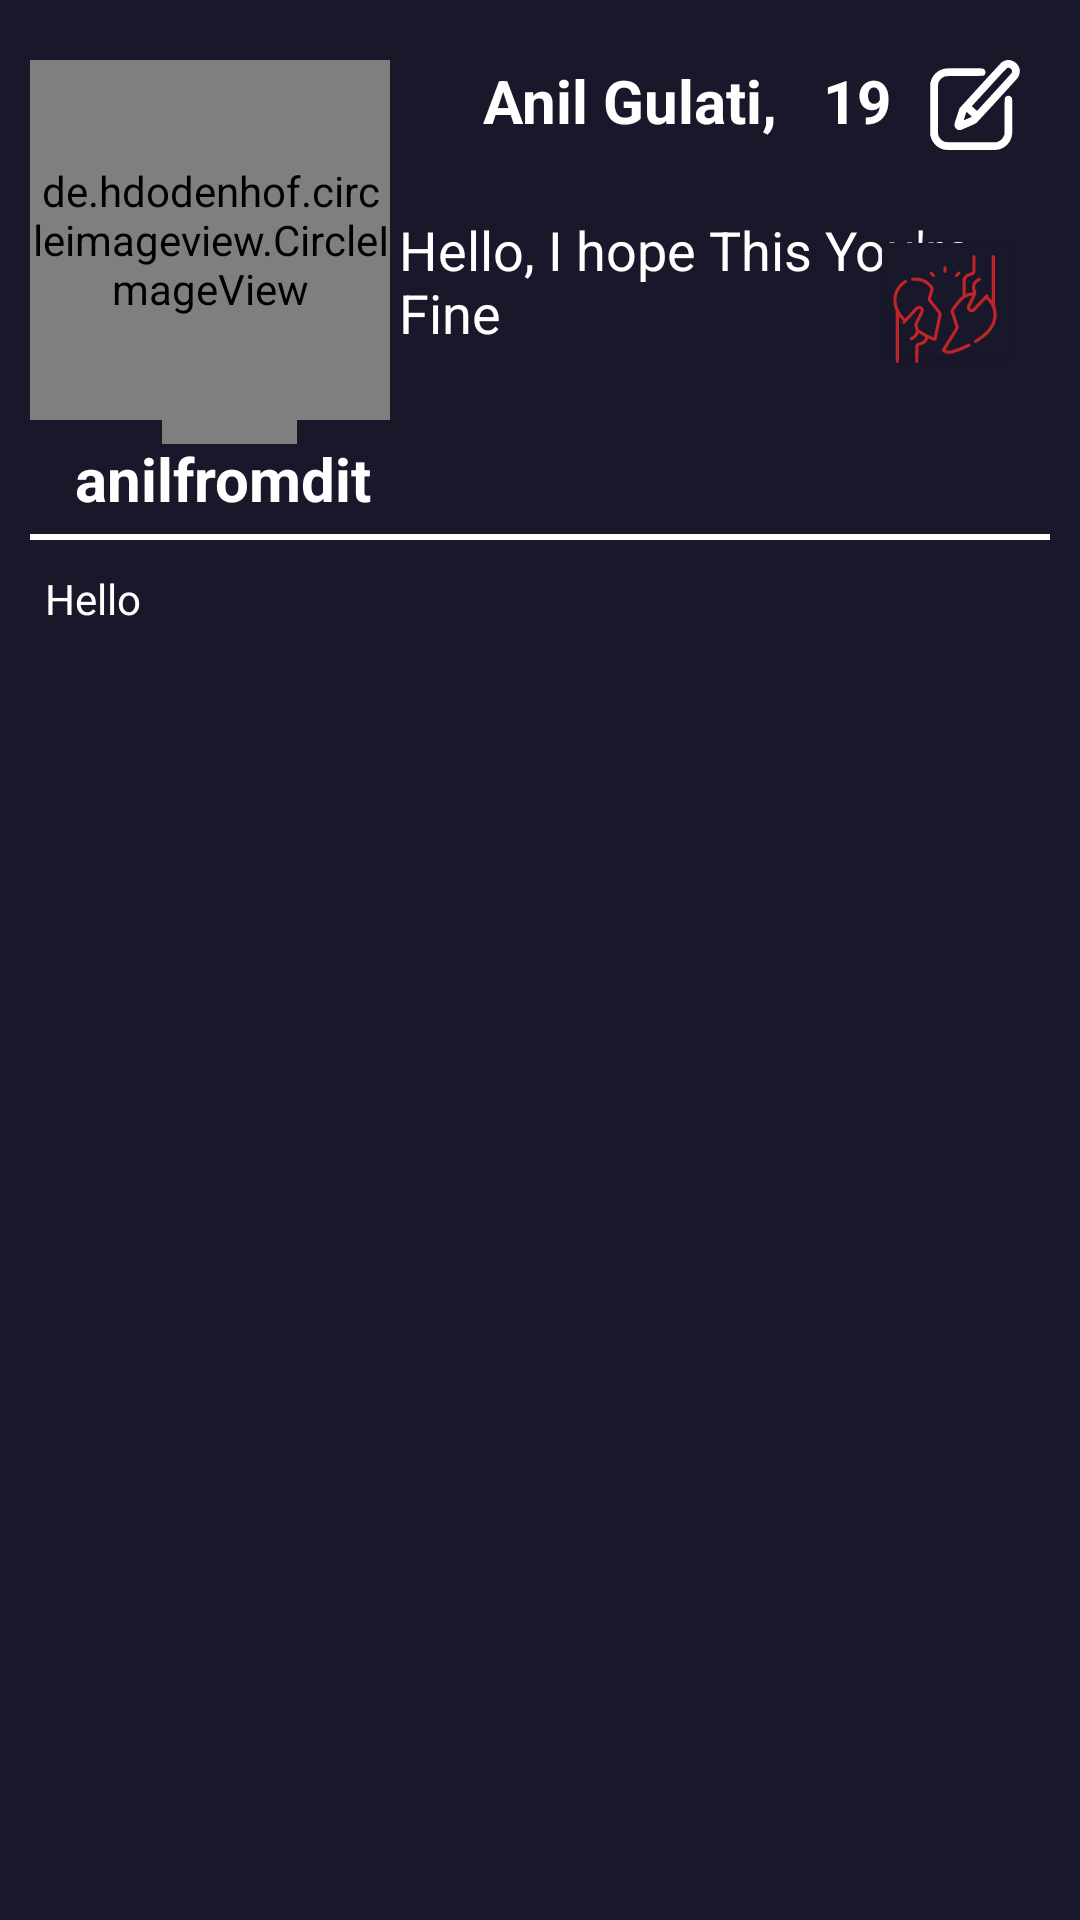

Named icons in this screenshot (1080px×1920px) and their bounding boxes, (x1, y1, x2, y2):
editbutton: (930, 60, 1020, 150)
